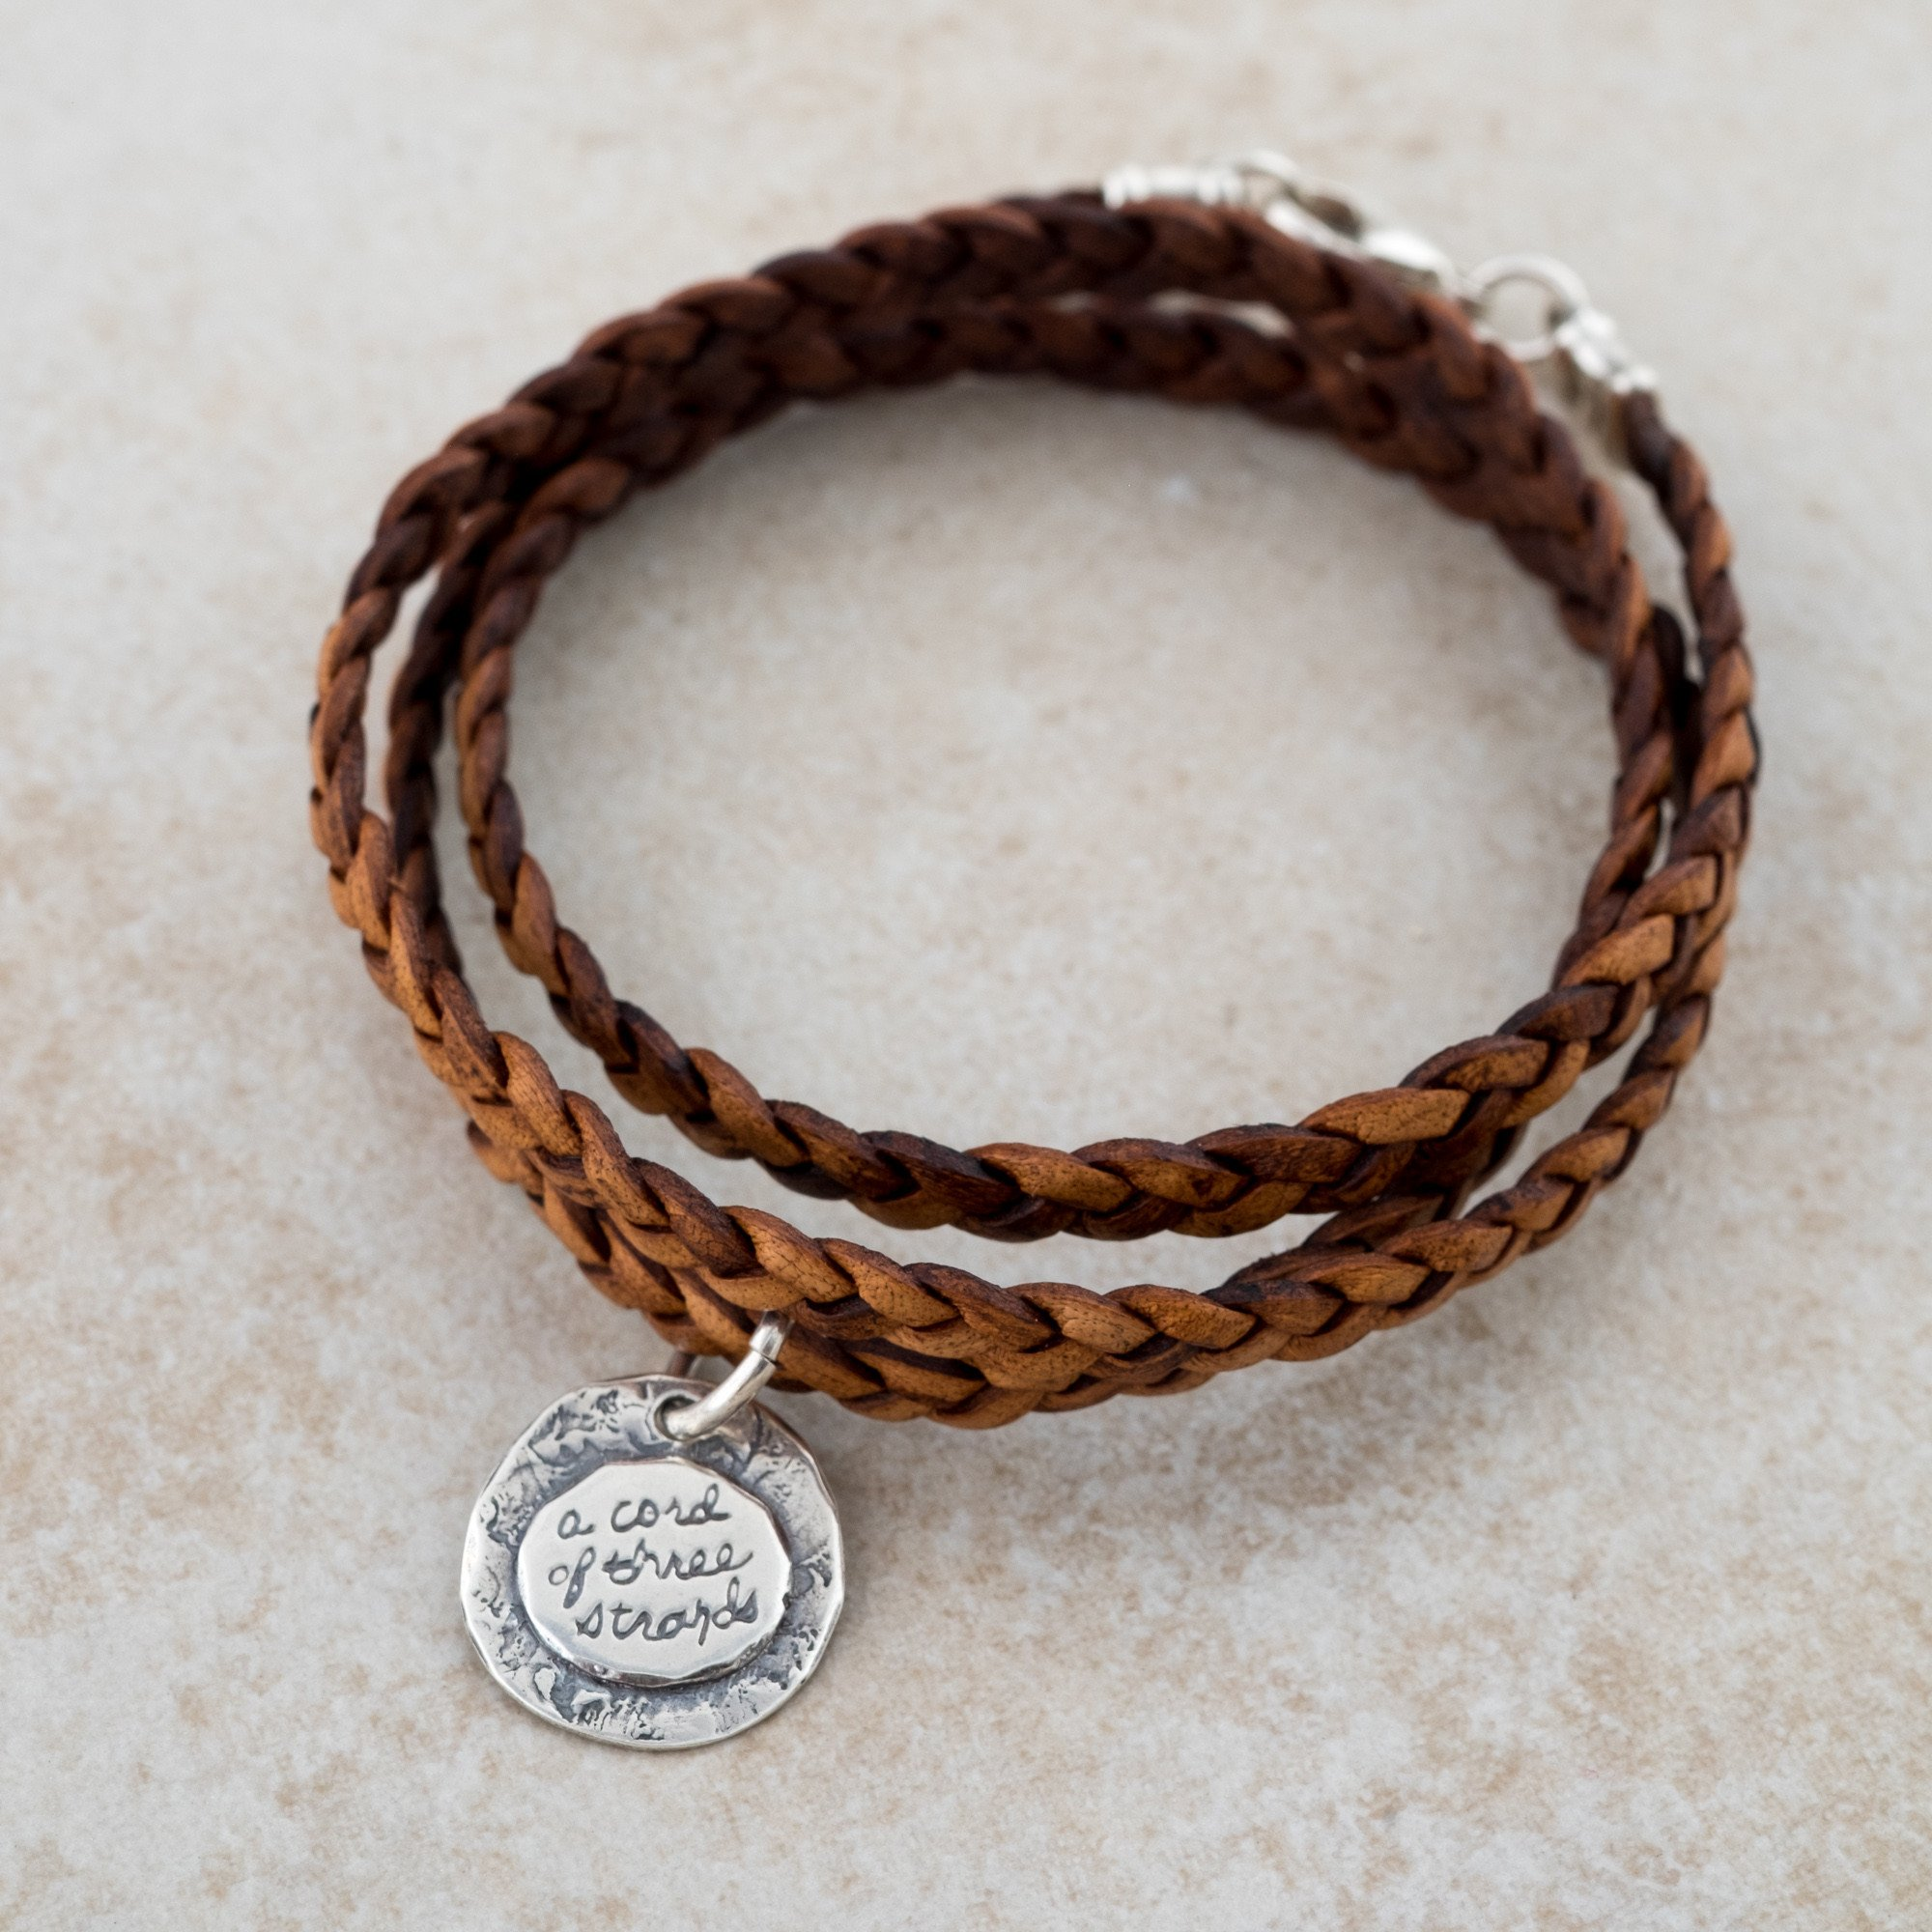Nonrec_Tangler: (211, 44, 1730, 1484)
